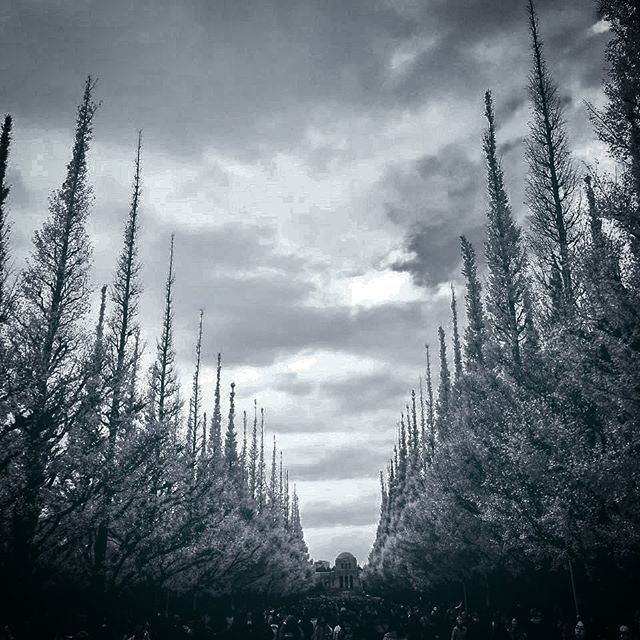building: (317, 541, 376, 600)
sky: (18, 4, 574, 404)
vegetation: (1, 202, 324, 613), (378, 130, 640, 608)
